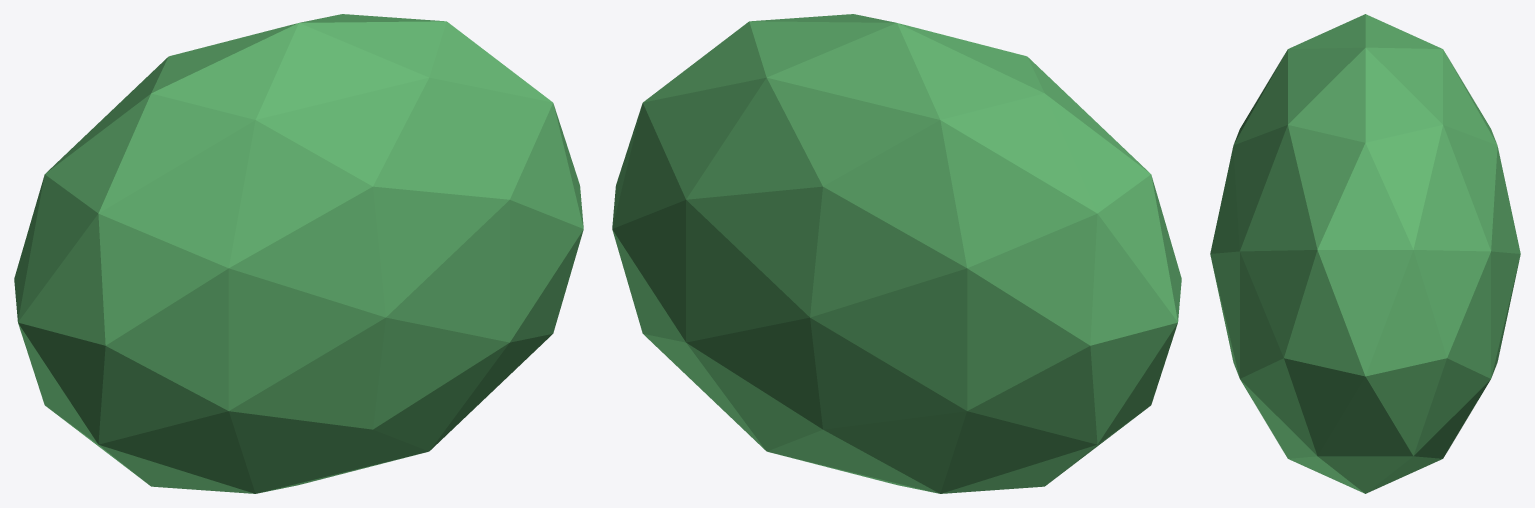
The model's file is forest_thorn_bush.glb.
The picture shows the model from 3 angles, left to right: view 1: azimuth 30°, elevation 25°; view 2: azimuth 150°, elevation 25°; view 3: azimuth 270°, elevation 25°; orthographic projection. The views are drawn at different scales.
Visible parts, largest first — view 1: bush; view 2: bush; view 3: bush.
Boxes of the visible parts, box(x1,y1,x2,y2) form: bush: box(14, 14, 583, 493); bush: box(612, 14, 1181, 493); bush: box(1210, 14, 1520, 493).
Bounding box in the file's own units: 1.82 × 1.43 × 0.975.
